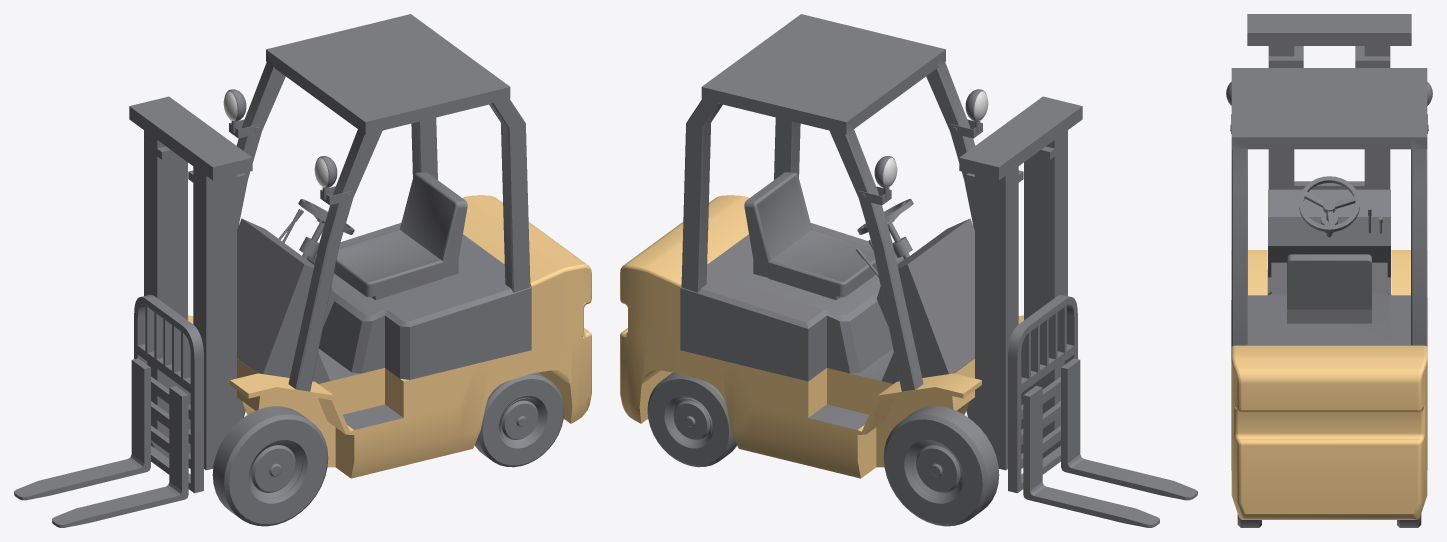
Rendered from fork.gltf.
The picture shows the model from 3 angles, left to right: view 1: azimuth 30°, elevation 25°; view 2: azimuth 150°, elevation 25°; view 3: azimuth 270°, elevation 25°; orthographic projection.
Visible parts, largest first — view 1: Roof, Cube_3_2, Cube_3, Cube_12_2_2, Panel, Tube, Cube_13_2, Cube_4, Cube_12, Tube_2, Cube_6, Sweep (+3 smaller); view 2: Roof, Cube_3_2, Cube_3, Cube_12_2_2, Panel, Tube, Cube_13_2, Cube_4, Cube_12, Tube_2, Cube_6, Sweep (+3 smaller); view 3: Cube_3_2, Roof, Panel, Cube_3, Cube_12, Cube_6, Cube_12_2_2, Tube_3, Cube_4, Cube_13_3, Sweep, Tube_2.
Part boxes in pixels (x1=…): Roof: x1=236, y1=14, x2=530, y2=391; Cube_3_2: x1=188, y1=195, x2=591, y2=478; Cube_3: x1=307, y1=223, x2=531, y2=379; Cube_12_2_2: x1=144, y1=130, x2=236, y2=470; Panel: x1=237, y1=218, x2=334, y2=383; Tube: x1=151, y1=397, x2=328, y2=526; Cube_13_2: x1=14, y1=358, x2=188, y2=527; Cube_4: x1=334, y1=229, x2=458, y2=297; Cube_12: x1=129, y1=96, x2=252, y2=180; Tube_2: x1=474, y1=372, x2=564, y2=467; Cube_6: x1=399, y1=172, x2=467, y2=268; Sweep: x1=134, y1=294, x2=203, y2=493; Roof: x1=681, y1=14, x2=975, y2=391; Cube_3_2: x1=620, y1=195, x2=1023, y2=478; Cube_3: x1=680, y1=223, x2=904, y2=381; Cube_12_2_2: x1=975, y1=130, x2=1067, y2=470; Panel: x1=877, y1=218, x2=974, y2=383; Tube: x1=883, y1=397, x2=1060, y2=526; Cube_13_2: x1=1023, y1=358, x2=1197, y2=527; Cube_4: x1=753, y1=229, x2=877, y2=297; Cube_12: x1=959, y1=96, x2=1082, y2=180; Tube_2: x1=647, y1=372, x2=737, y2=467; Cube_6: x1=744, y1=172, x2=812, y2=266; Sweep: x1=1008, y1=294, x2=1077, y2=493; Cube_3_2: x1=1231, y1=250, x2=1427, y2=519; Roof: x1=1231, y1=68, x2=1427, y2=346; Panel: x1=1268, y1=189, x2=1390, y2=293; Cube_3: x1=1231, y1=290, x2=1427, y2=346; Cube_12: x1=1247, y1=14, x2=1411, y2=45; Cube_6: x1=1287, y1=254, x2=1371, y2=309; Cube_12_2_2: x1=1268, y1=46, x2=1390, y2=189; Tube_3: x1=1299, y1=176, x2=1359, y2=231; Cube_4: x1=1287, y1=309, x2=1371, y2=323; Cube_13_3: x1=1269, y1=46, x2=1389, y2=67; Sweep: x1=1294, y1=181, x2=1364, y2=189; Tube_2: x1=1237, y1=514, x2=1421, y2=527.
Size of the model in its own units: 7.05 by 5.09 by 2.52.
